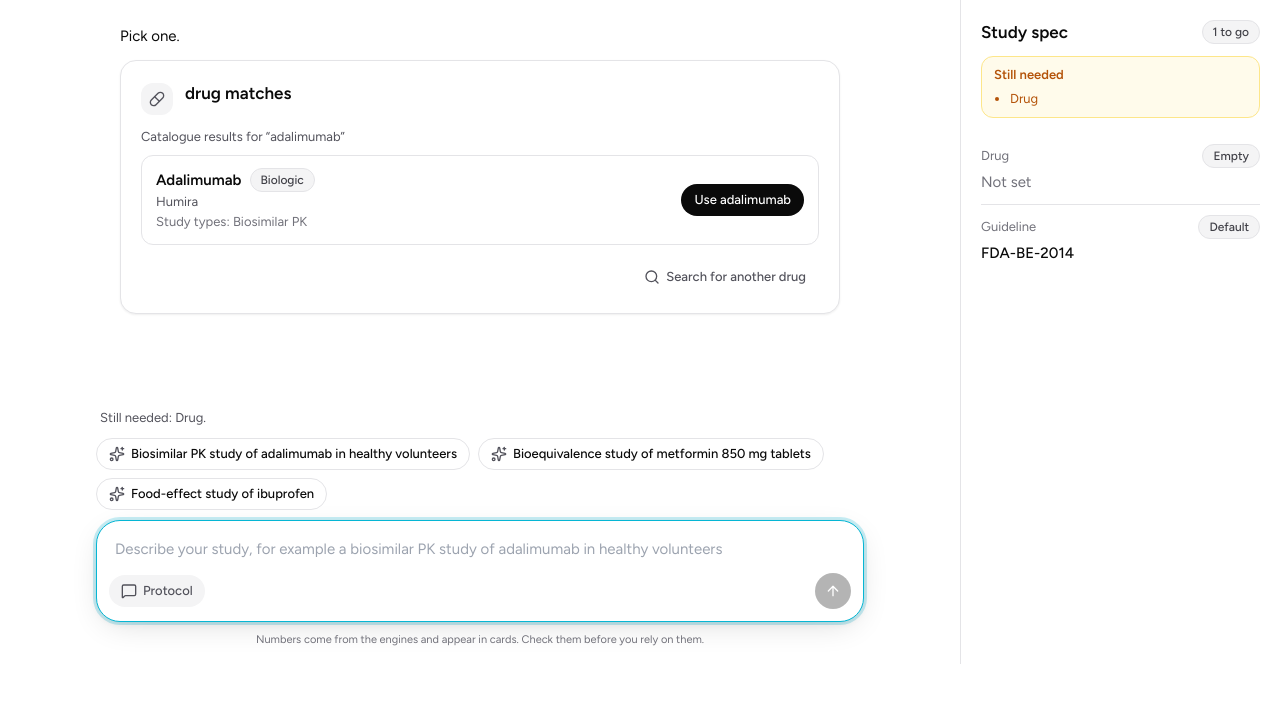
Scenario: ChatPage › on 409 stale_spec the page refetches and says so
Click the button "Use adalimumab": click(743, 200) [681, 184, 804, 216]
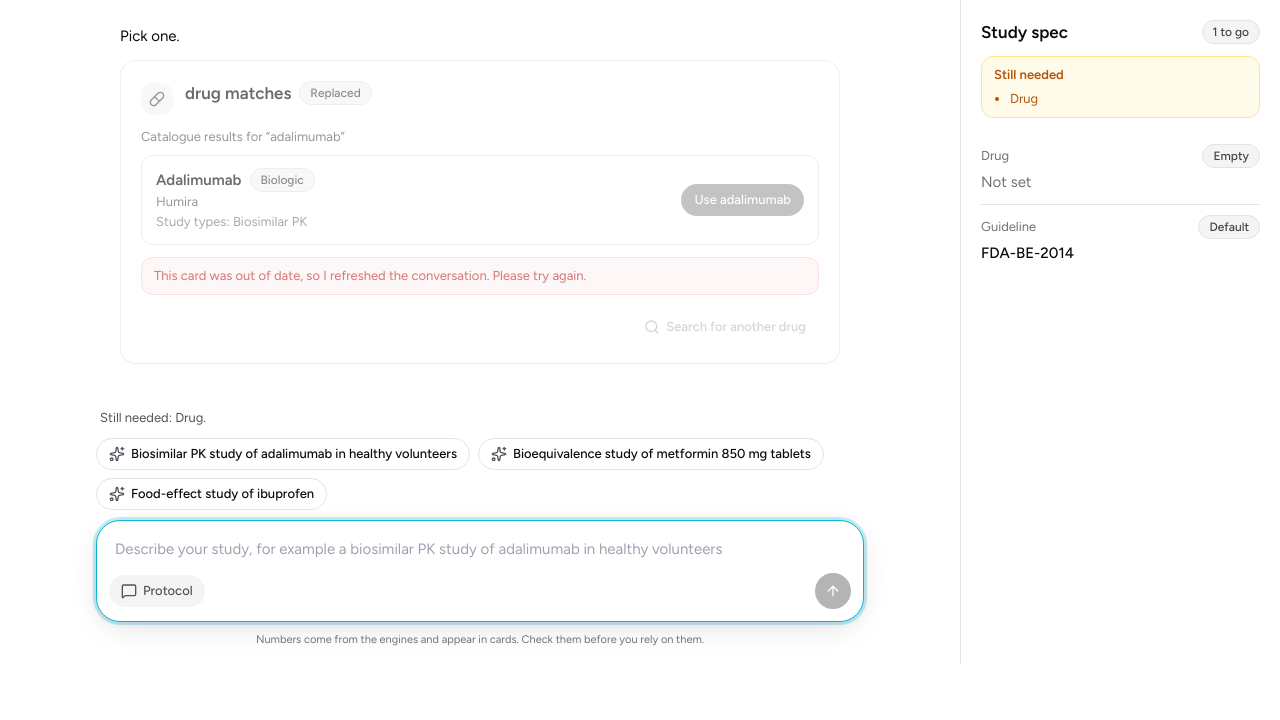
Expected: the text "This card was out of date, so I refreshed the conversation. Please try again." is shown, [141, 257, 819, 295]
Expected: the button "Use adalimumab" is disabled, [681, 184, 804, 216]
